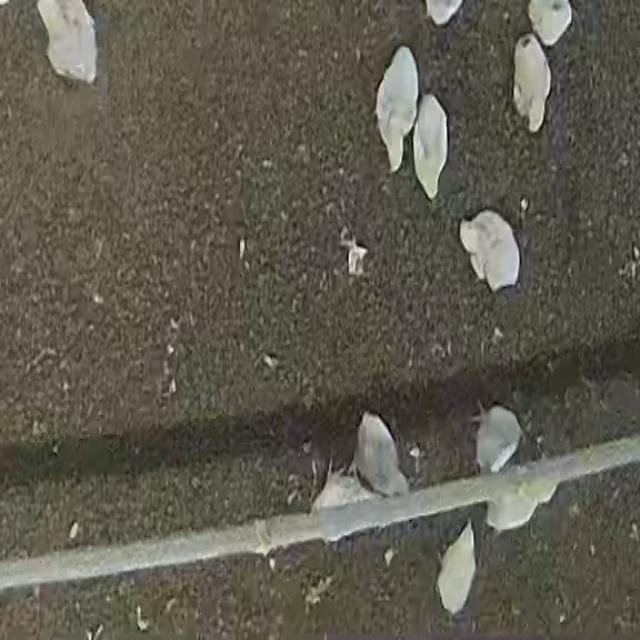chicken: (372, 37, 420, 180), (458, 203, 524, 295), (464, 387, 524, 474), (354, 411, 411, 498), (512, 33, 552, 133), (438, 520, 478, 617), (413, 93, 449, 199)
